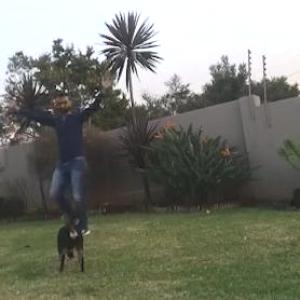takeoff: (6, 64, 107, 244)
